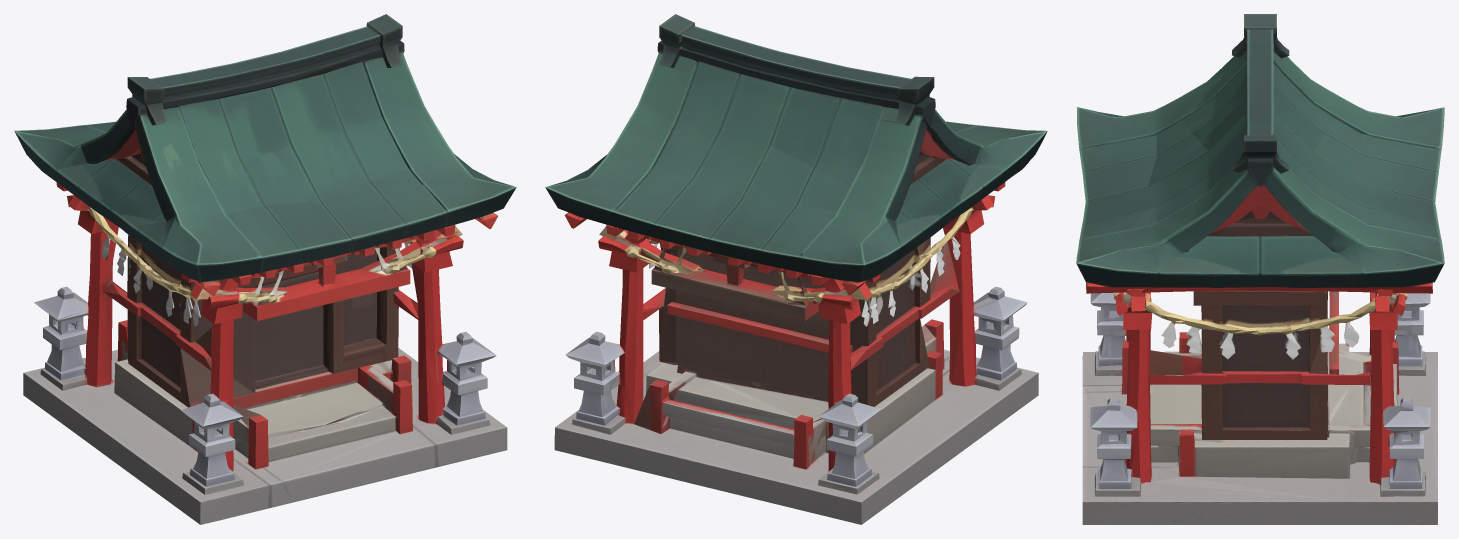
Rendered from shrine.glb.
3 renders of one model, left to right at view 1: azimuth 30°, elevation 25°; view 2: azimuth 150°, elevation 25°; view 3: azimuth 270°, elevation 25°, orthographic.
Visible parts, largest first — view 1: shrine; view 2: shrine; view 3: shrine.
Boxes of the visible parts, x1,y1,x2,y2 form: shrine: (14, 14, 516, 524); shrine: (545, 14, 1047, 524); shrine: (1076, 14, 1444, 524).
Size of the model in its own units: 6.3 by 7 by 6.27.
Materials: 1 (1 with a texture image).
